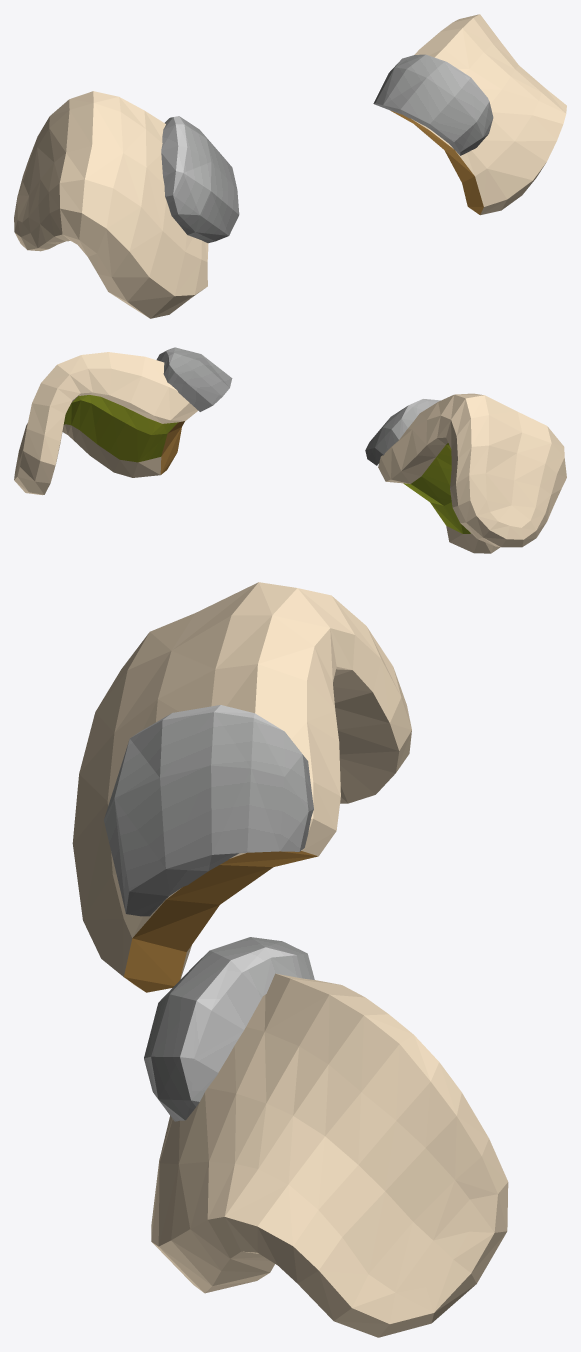
File: CharSkyKid_Hat_PersonalityPuppyEars.glb
3 renders of one model, top to bottom at view 1: azimuth 30°, elevation 25°; view 2: azimuth 150°, elevation 25°; view 3: azimuth 270°, elevation 25°, orthographic. The views are drawn at different scales.
Parts seen in each view (by area): view 1: CharSkyKid_Hat_PersonalityPuppyEars; view 2: CharSkyKid_Hat_PersonalityPuppyEars; view 3: CharSkyKid_Hat_PersonalityPuppyEars.
Boxes of the visible parts, x1,y1,x2,y2 form: CharSkyKid_Hat_PersonalityPuppyEars: [14, 14, 566, 318]; CharSkyKid_Hat_PersonalityPuppyEars: [14, 347, 566, 553]; CharSkyKid_Hat_PersonalityPuppyEars: [72, 582, 508, 1337].
Bounding box in the file's own units: 3.38 × 1.18 × 1.27.
Materials: 1 (1 with a texture image).
